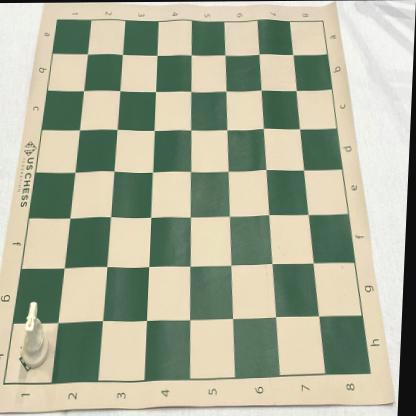white-knight: (25, 301, 56, 369)
